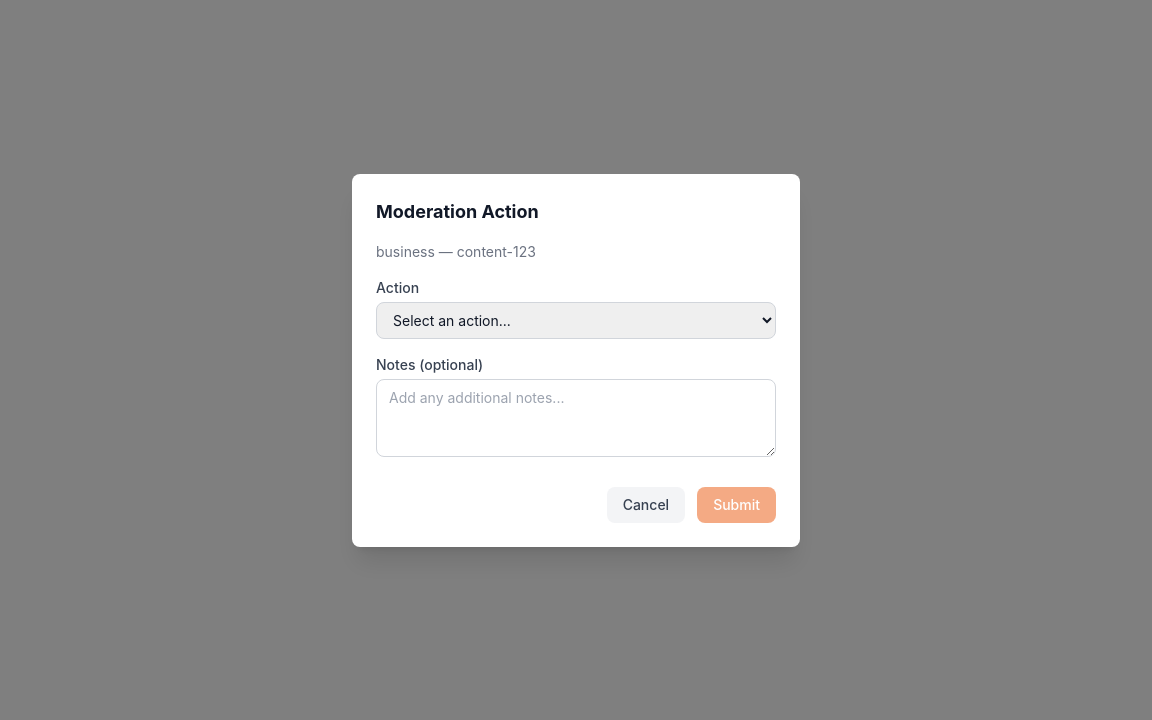
Test: ModerationActionModal › enables Submit when reject and reason are both selected
Select "Reject" in the dropdown labelled "Action" at (576, 320), box x1=376 y1=302 x2=776 y2=338
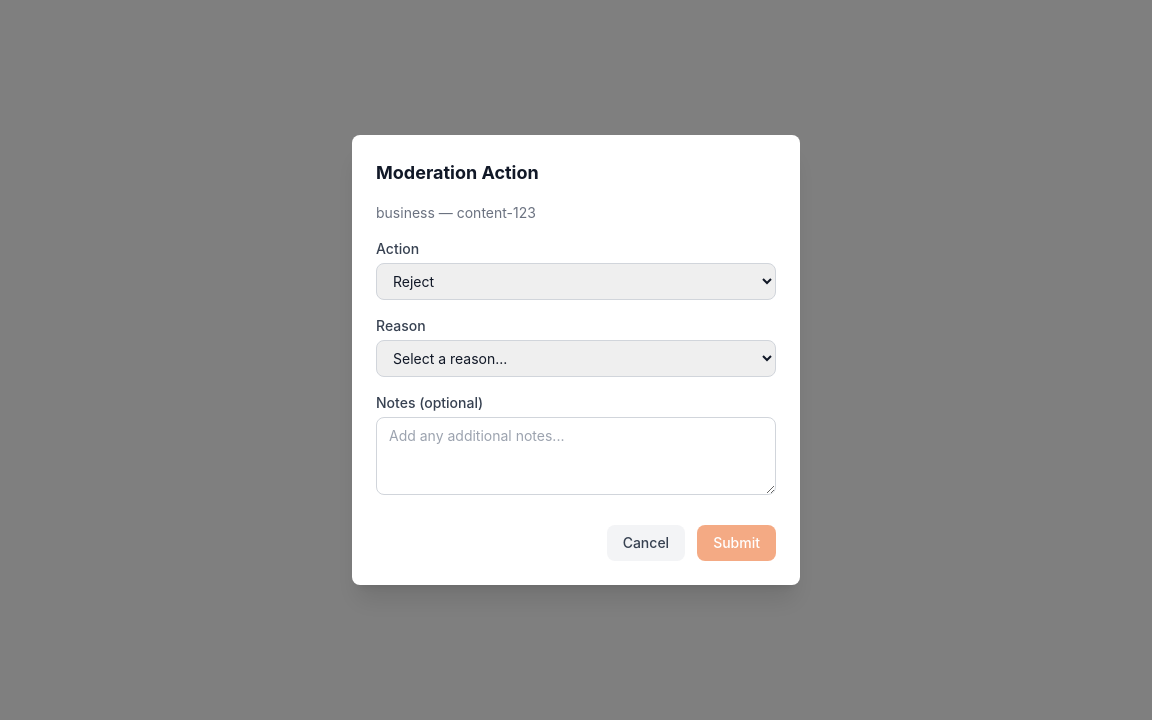
Select "Spam" in the dropdown labelled "Reason" at (576, 358), box x1=376 y1=340 x2=776 y2=377
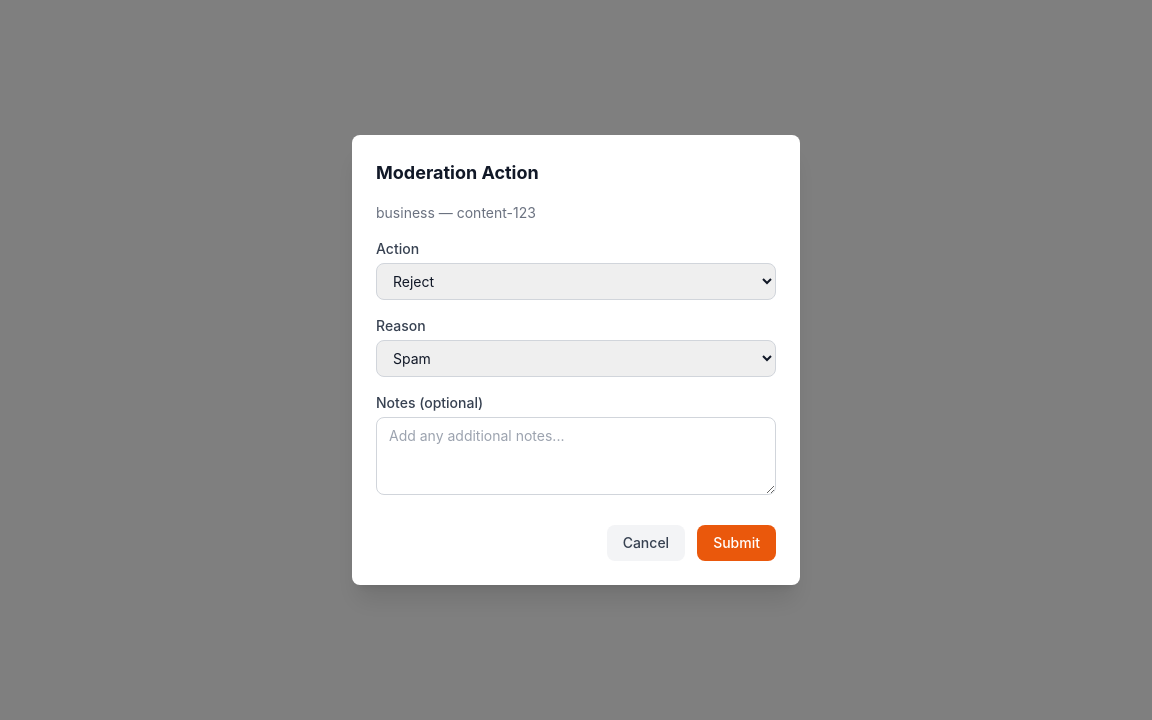
Check: the button "Submit" is enabled, box x1=697 y1=525 x2=776 y2=561
